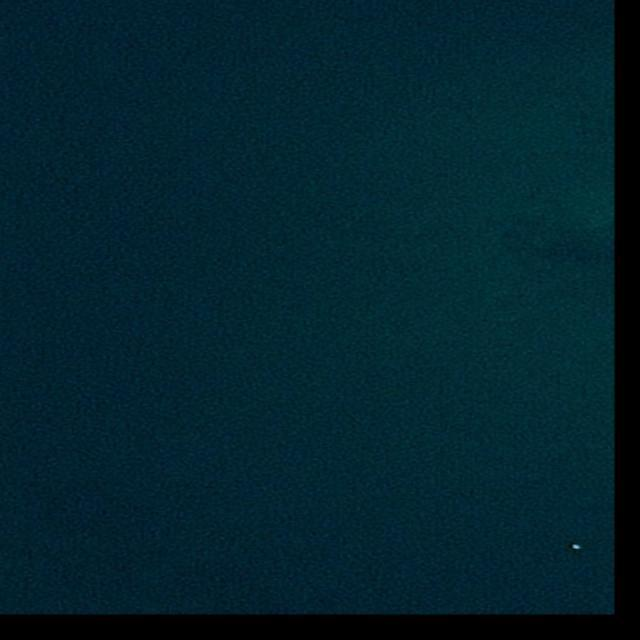ship: (570, 542, 584, 551)
